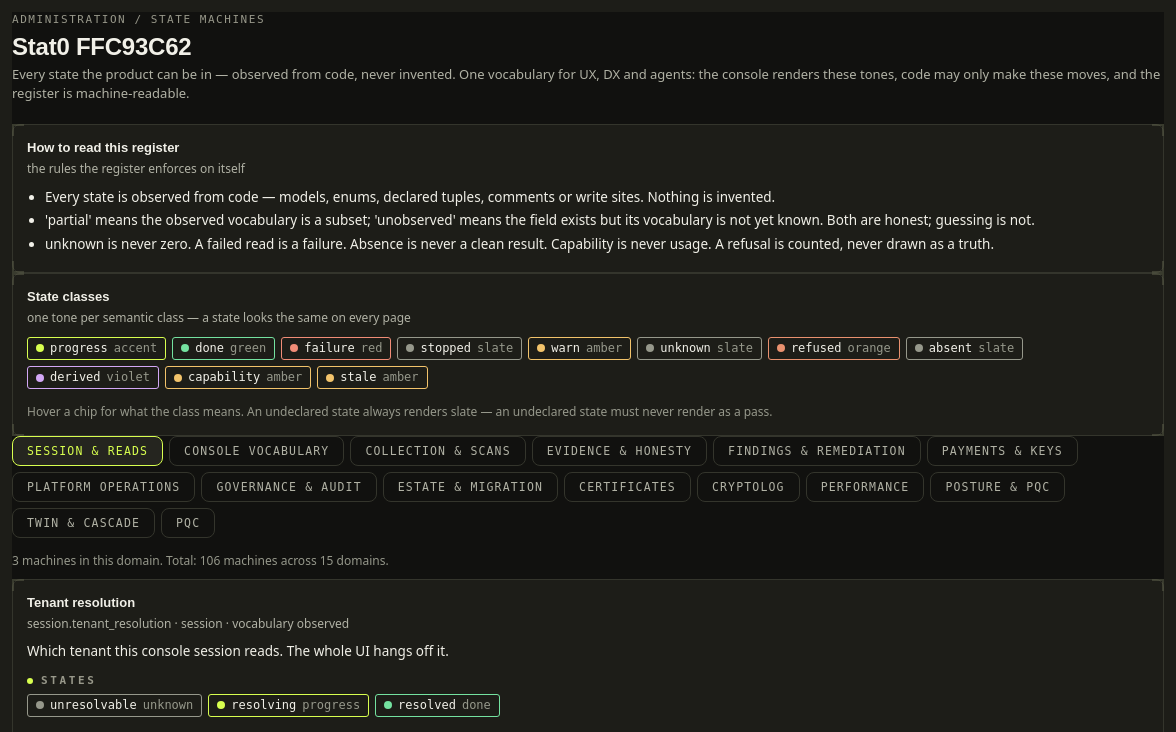
it: State machines explorer › shows the scan lifecycle with its observed edges and its invariant
Click the tab "Collection & scans".
click(438, 451)  # box [350,436,526,466]
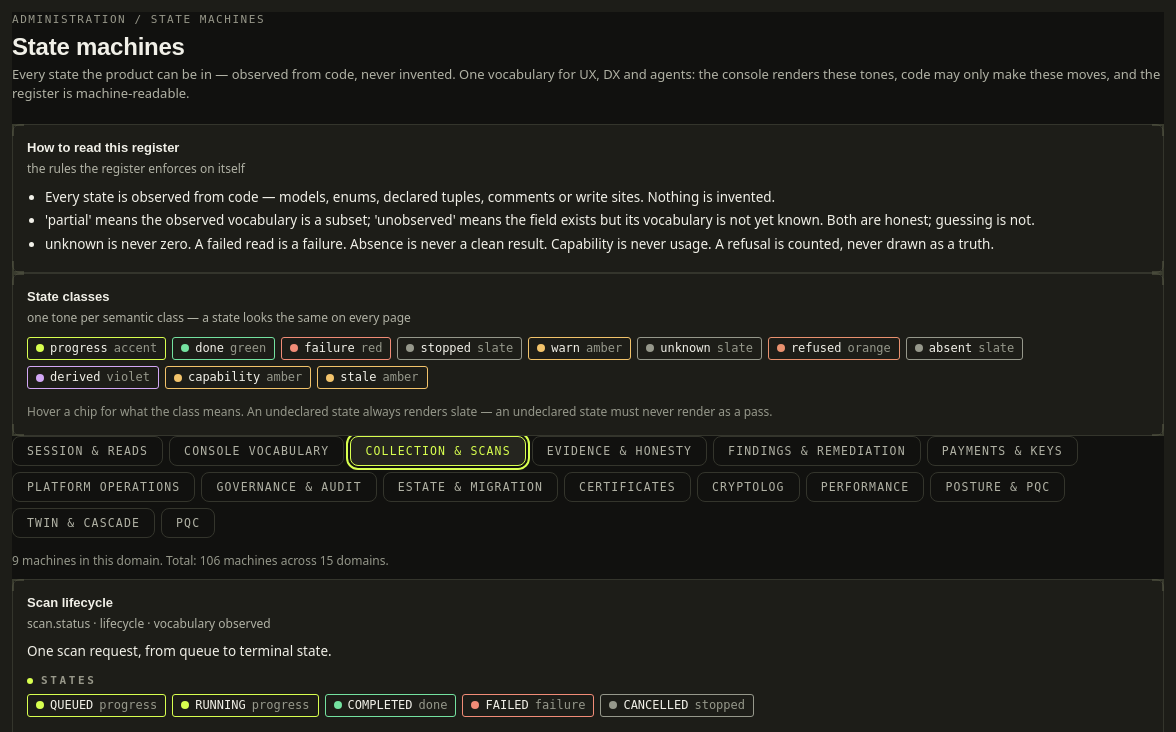
Check: the heading "Scan lifecycle" is shown, box [27,595,113,610]
Check: the text "QUEUED" is shown, box [50,696,93,714]
